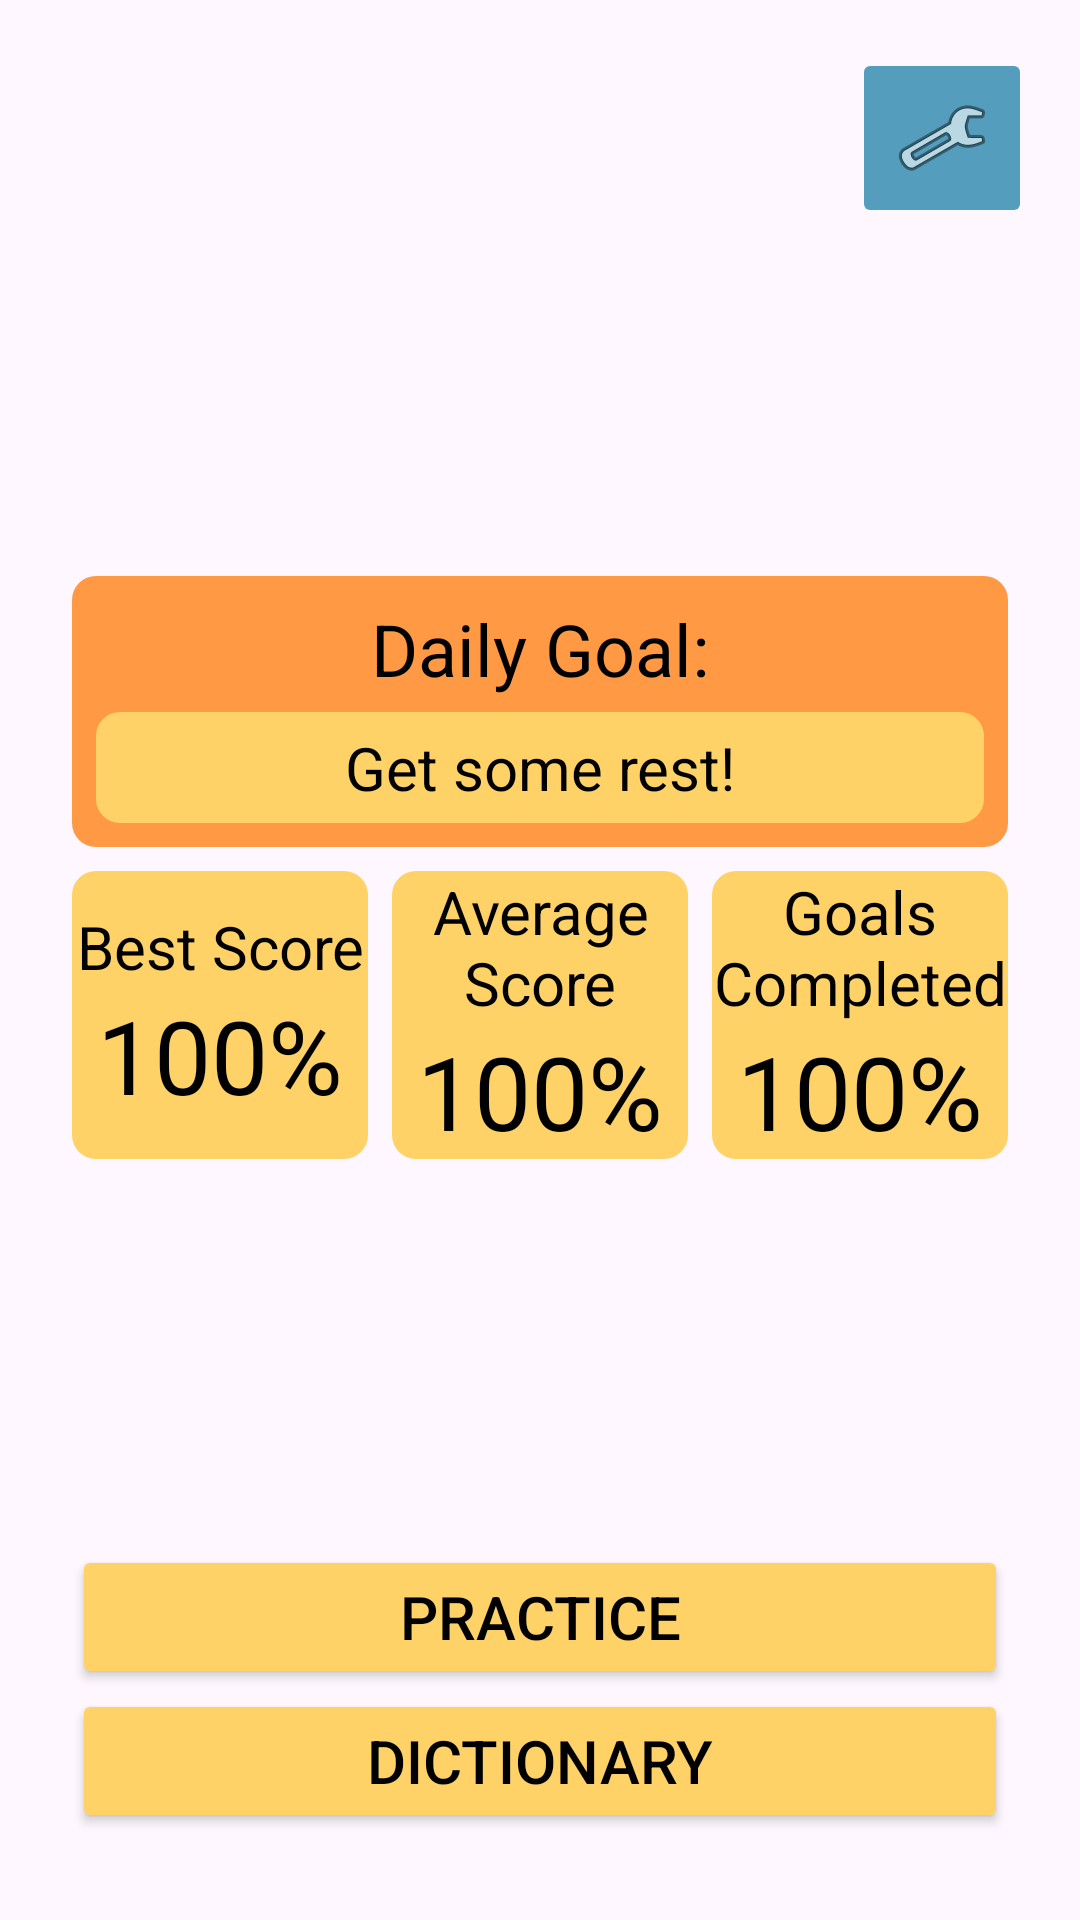

Icon click points for this 1080w x 1920h phone screenshot, format (x,y):
Manage application settings: (942,138)
